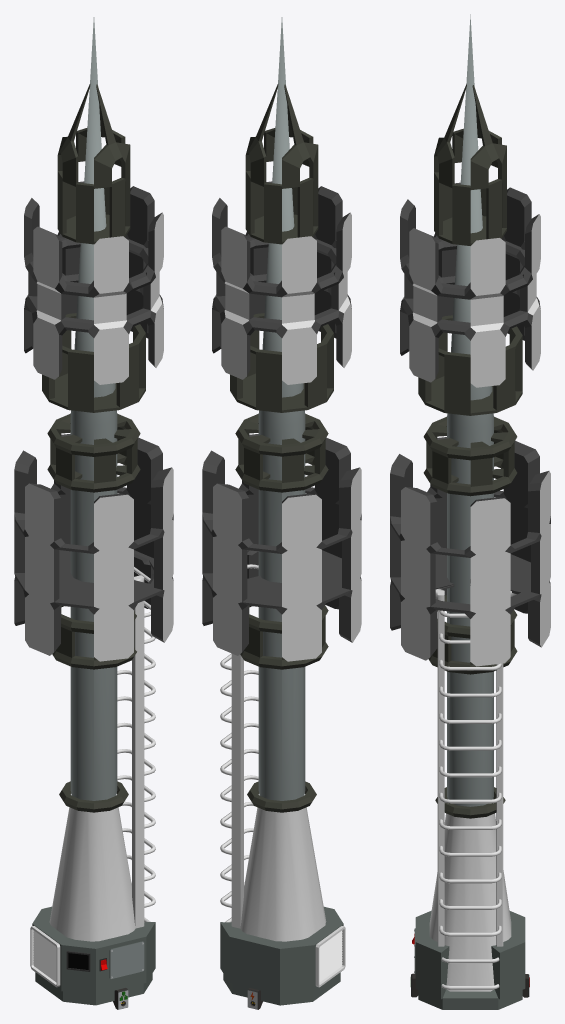
The model's file is BuildState3.fbx.
3 views of the same model, side by side, from view 1: azimuth 30°, elevation 25°; view 2: azimuth 150°, elevation 25°; view 3: azimuth 270°, elevation 25° (orthographic).
Visible parts, largest first — view 1: BuildState3MainBody, BuildState3Ladder, BuildState3Vent, BuildState3Panel; view 2: BuildState3MainBody, BuildState3Ladder, BuildState3Vent; view 3: BuildState3MainBody, BuildState3Ladder.
Boxes of the visible parts, left/top/right/bottom form: BuildState3MainBody: left=14, top=17, right=173, bottom=1005; BuildState3Ladder: left=117, top=567, right=155, bottom=928; BuildState3Vent: left=30, top=926, right=60, bottom=987; BuildState3Panel: left=109, top=941, right=144, bottom=978; BuildState3MainBody: left=202, top=17, right=361, bottom=1005; BuildState3Ladder: left=220, top=564, right=258, bottom=928; BuildState3Vent: left=315, top=926, right=345, bottom=987; BuildState3MainBody: left=390, top=14, right=550, bottom=1009; BuildState3Ladder: left=435, top=588, right=516, bottom=989.
Bounding box in the file's own units: 137 × 921 × 137.
